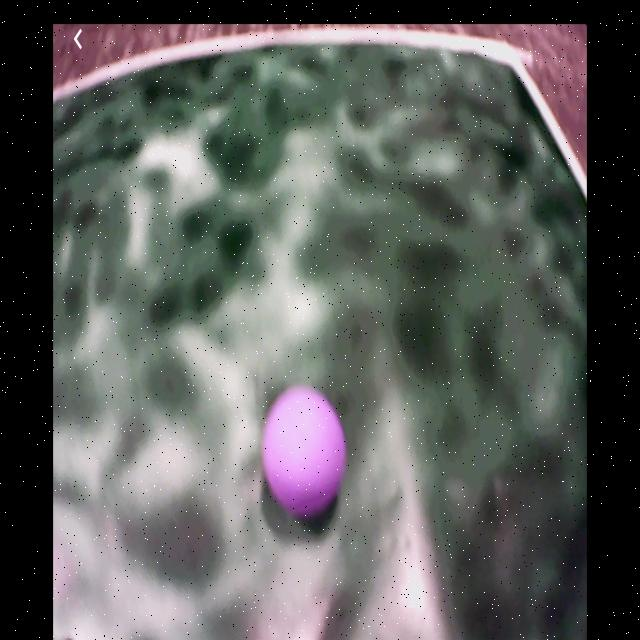ball: (262, 391, 346, 514)
